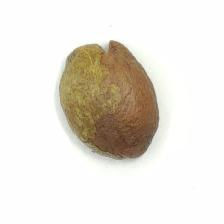NG: (60, 38, 130, 160)
